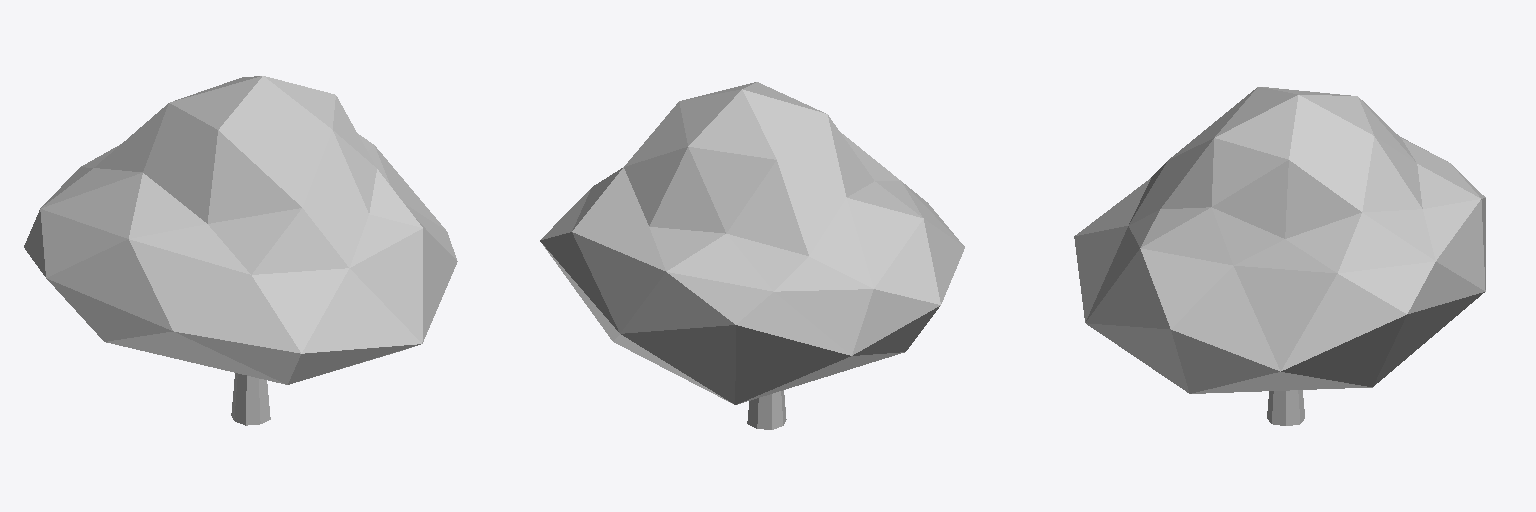
File: tree-oak1.obj
The picture shows the model from 3 angles: view 1: azimuth 30°, elevation 25°; view 2: azimuth 150°, elevation 25°; view 3: azimuth 270°, elevation 25°; orthographic projection.
Visible parts, largest first — view 1: stalk_Cube.001; view 2: stalk_Cube.001; view 3: stalk_Cube.001.
Part boxes in pixels (x1,y1,x2,y2): stalk_Cube.001: (24, 76, 457, 425); stalk_Cube.001: (540, 82, 964, 429); stalk_Cube.001: (1074, 87, 1485, 425).
Bounding box in the file's own units: 6.13 × 5.19 × 5.71.